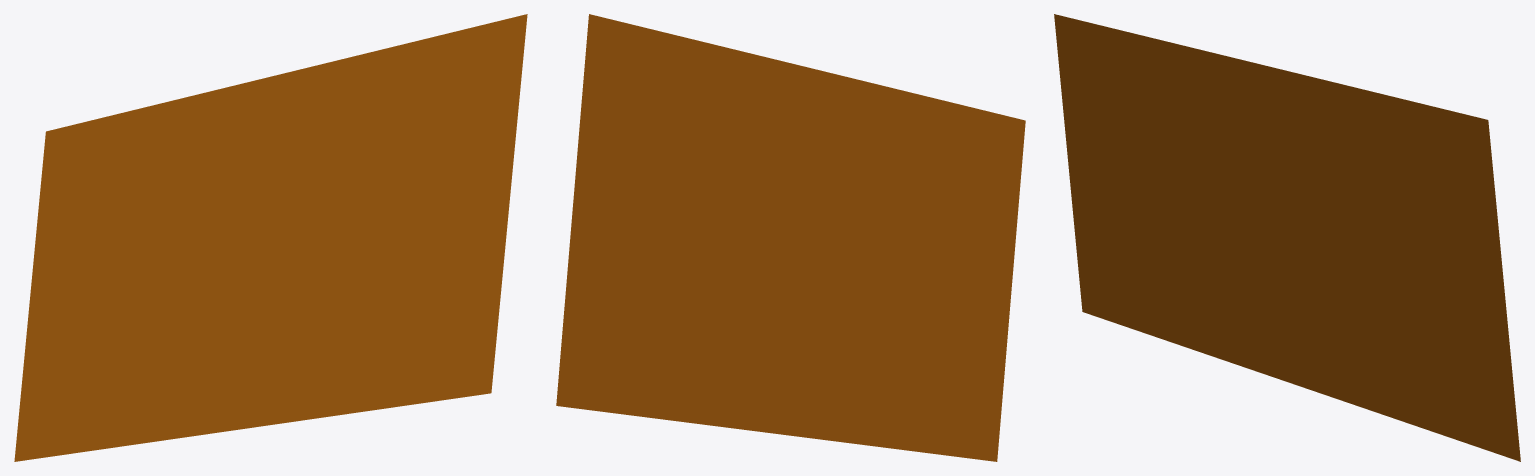
File: zatana_terra_base_vis_72.dae
3 renders of one model, left to right at view 1: azimuth 30°, elevation 25°; view 2: azimuth 150°, elevation 25°; view 3: azimuth 330°, elevation 25°, orthographic. The views are drawn at different scales.
Parts seen in each view (by area): view 1: Node_000002318374C350; view 2: Node_000002318374C350; view 3: Node_000002318374C350.
Boxes of the visible parts, <box> form: Node_000002318374C350: <box>14,14,527,461</box>; Node_000002318374C350: <box>556,14,1025,461</box>; Node_000002318374C350: <box>1054,14,1520,461</box>.
Bounding box in the file's own units: 0.00618 × 0.00498 × 0.000804.
